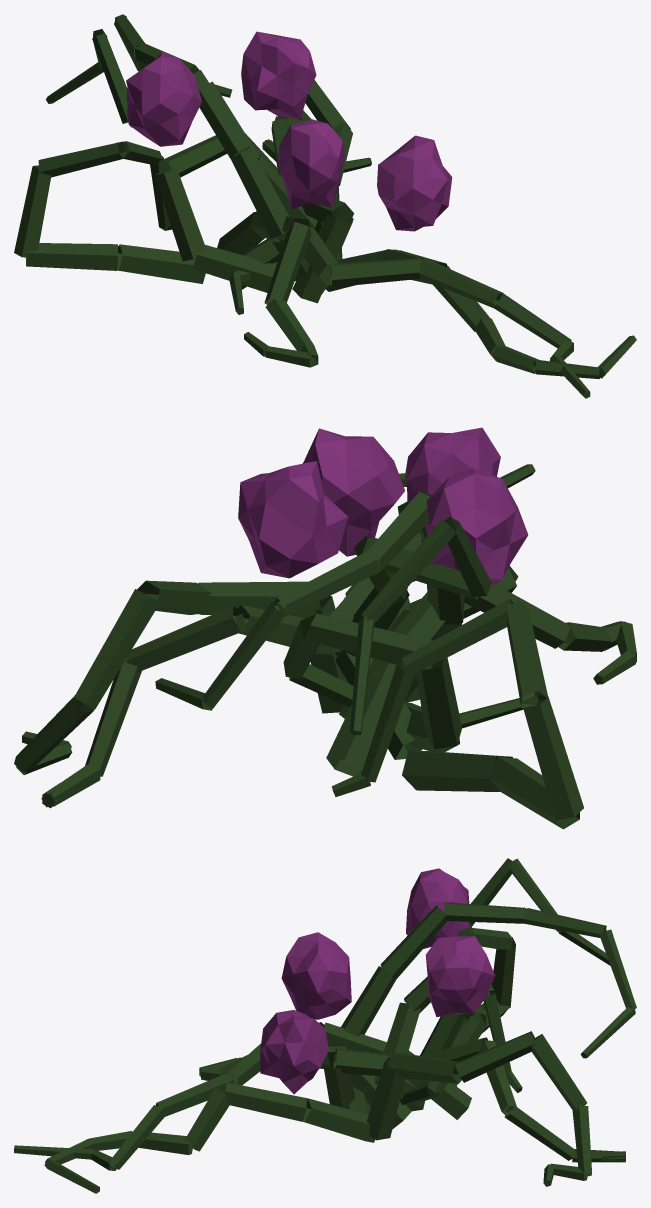
Rendered from DV_Plant_DevilsSnare.obj.
3 renders of one model, top to bottom at view 1: azimuth 30°, elevation 25°; view 2: azimuth 150°, elevation 25°; view 3: azimuth 270°, elevation 25°, orthographic. The views are drawn at different scales.
Visible parts, largest first — view 1: bulb_1, bulb_2, bulb_0, bulb_3, vine_8_1, vine_4_1, vine_5_1, vine_4_0, vine_6_2, vine_8_0, vine_4_2, vine_3_2 (+25 smaller); view 2: bulb_0, bulb_1, bulb_2, bulb_3, vine_4_2, vine_4_0, vine_0_3, vine_3_0, vine_1_3, vine_8_1, vine_8_2, vine_4_4 (+31 smaller); view 3: bulb_3, bulb_0, bulb_1, bulb_2, vine_2_1, vine_0_0, vine_2_0, vine_5_2, vine_0_2, vine_5_1, vine_0_1, vine_0_3 (+32 smaller).
Part boxes in pixels (x1,y1,x2,y2): bulb_1: [377, 135, 452, 231]; bulb_2: [126, 51, 201, 146]; bulb_0: [241, 31, 316, 119]; bulb_3: [277, 119, 344, 209]; vine_8_1: [154, 168, 206, 261]; vine_4_1: [26, 243, 117, 270]; vine_5_1: [230, 147, 288, 239]; vine_4_0: [117, 244, 205, 283]; vine_6_2: [329, 258, 421, 287]; vine_8_0: [192, 245, 276, 292]; vine_4_2: [14, 165, 50, 257]; vine_3_2: [264, 222, 311, 304]; bulb_0: [238, 461, 348, 578]; bulb_1: [303, 428, 404, 556]; bulb_2: [425, 468, 528, 584]; bulb_3: [404, 427, 500, 537]; vine_4_2: [522, 695, 583, 820]; vine_4_0: [402, 751, 512, 791]; vine_0_3: [74, 589, 159, 709]; vine_3_0: [326, 659, 396, 776]; vine_1_3: [126, 605, 245, 672]; vine_8_1: [416, 657, 461, 749]; vine_8_2: [308, 613, 432, 672]; vine_4_4: [401, 599, 513, 675]; bulb_3: [281, 932, 351, 1019]; bulb_0: [425, 936, 494, 1017]; bulb_1: [260, 1010, 328, 1094]; bulb_2: [406, 868, 469, 948]; vine_2_1: [225, 1082, 306, 1121]; vine_0_0: [366, 1057, 405, 1140]; vine_2_0: [303, 1098, 375, 1142]; vine_5_2: [380, 905, 447, 979]; vine_0_2: [455, 1031, 535, 1082]; vine_5_1: [341, 966, 396, 1036]; vine_0_1: [388, 1053, 461, 1083]; vine_0_3: [532, 1034, 586, 1110].
Bounding box in the file's own units: 4.01 × 2.32 × 6.01.
